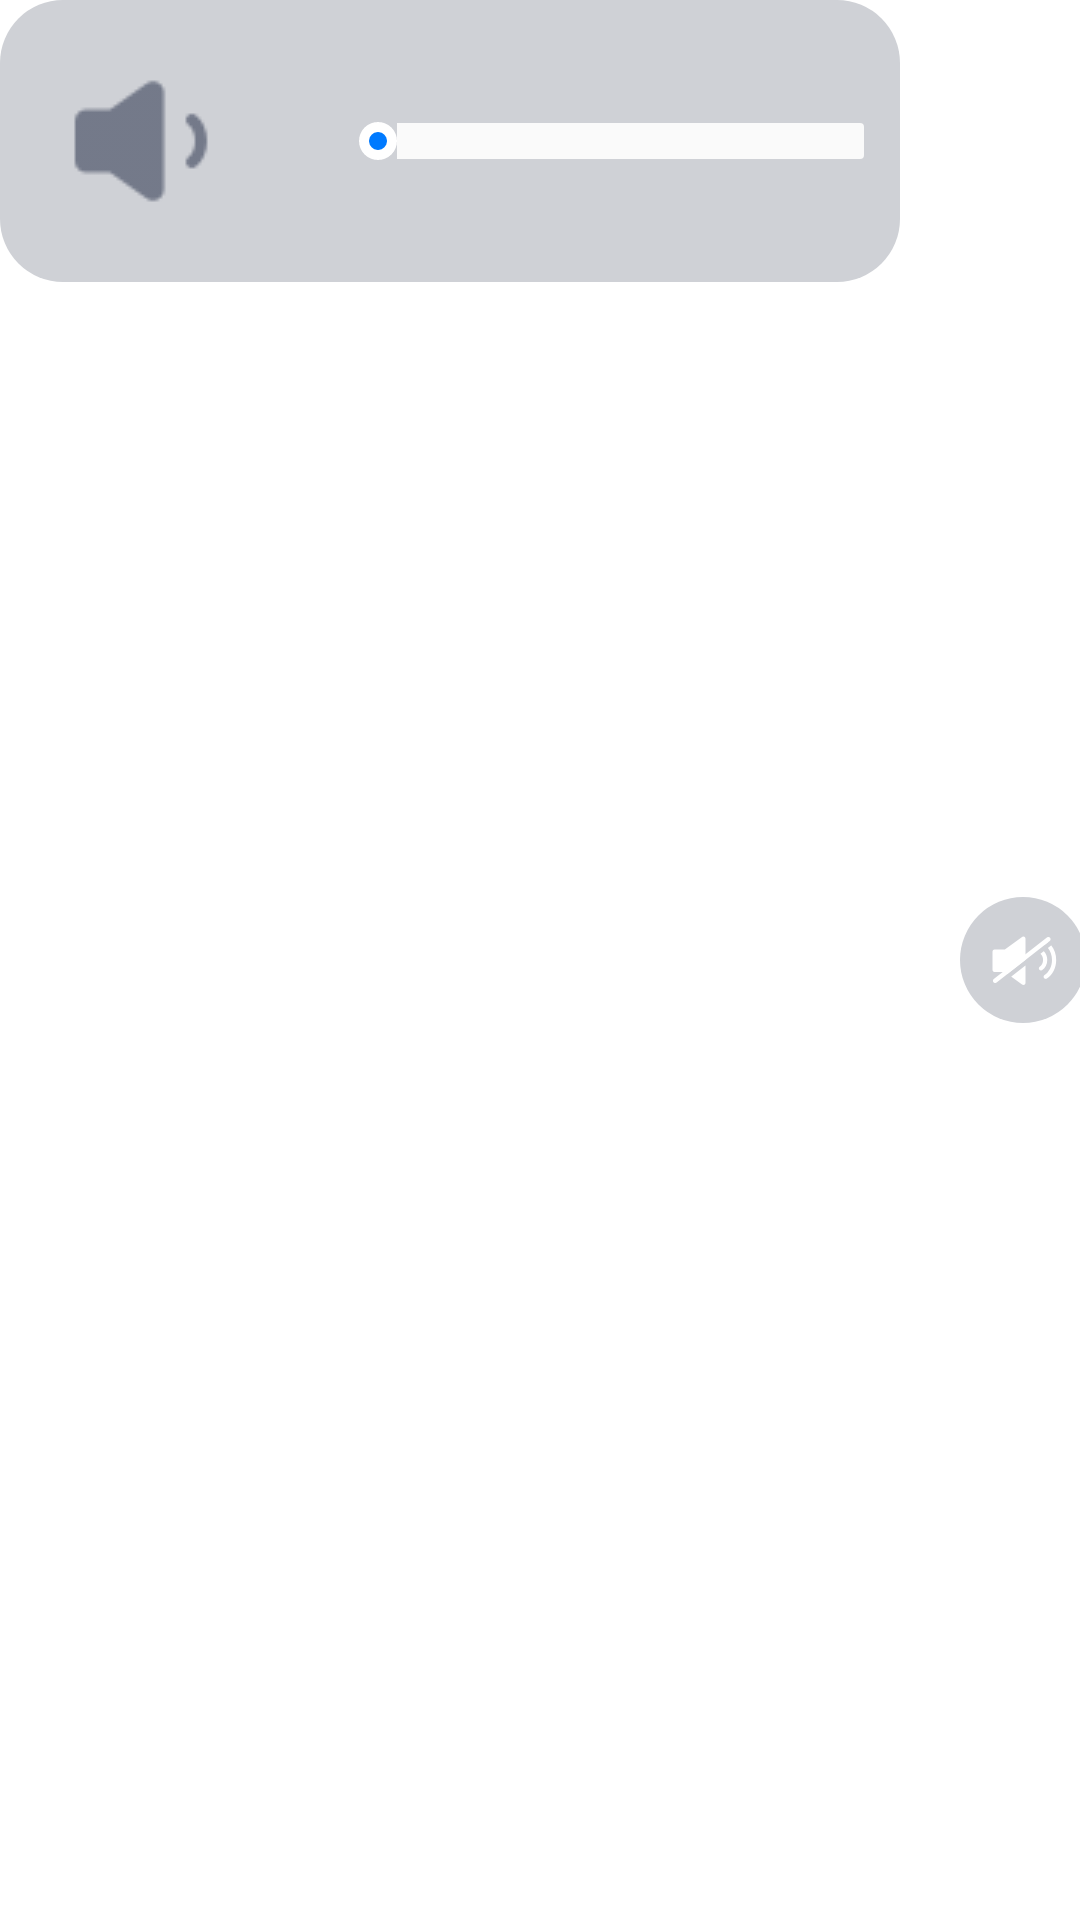

Icon click points for this 1080*1920 phone screenshot, format (x=x, y=y):
imgbtn media mute: (x=1020, y=960)
voice: (x=141, y=141)
